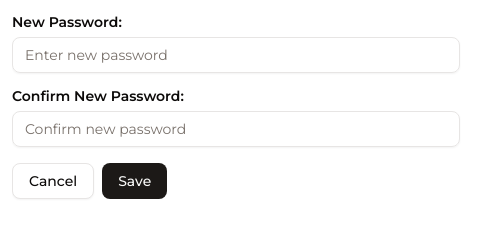
ChangePasswordSection › shows validation error when password is less than 8 characters
Type "short" into the password field with placeholder "Enter new password" at [236, 55], box [12,37,460,73]
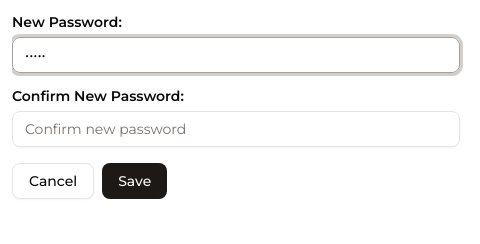
Type "short" into the password field with placeholder "Confirm New Password" at [236, 129], box [12,111,460,147]
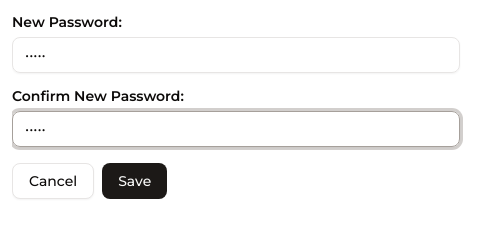
Click the button "Save" at [135, 181], box [102,163,167,199]
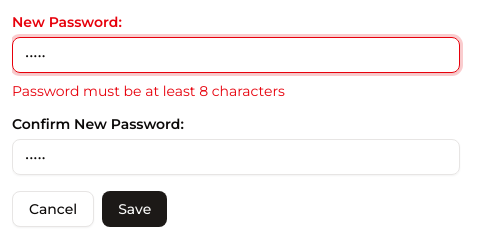
Expected: the text "Password must be at least 8 characters" is shown, [12,82,285,100]
